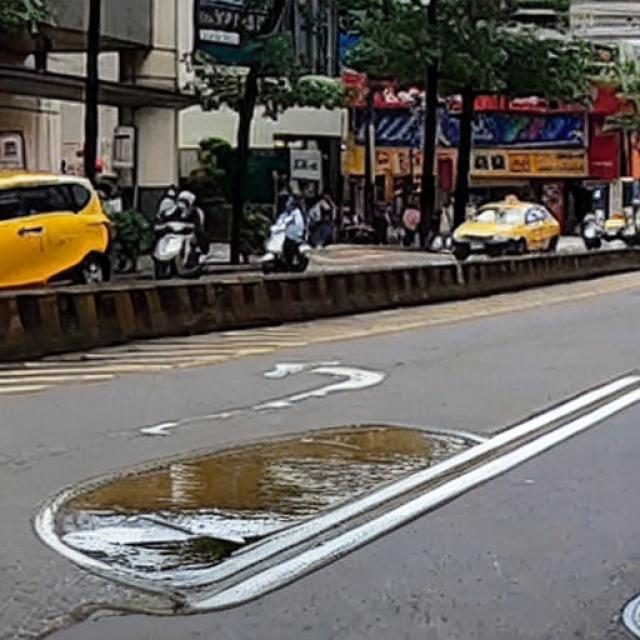puddle: (58, 427, 461, 579)
